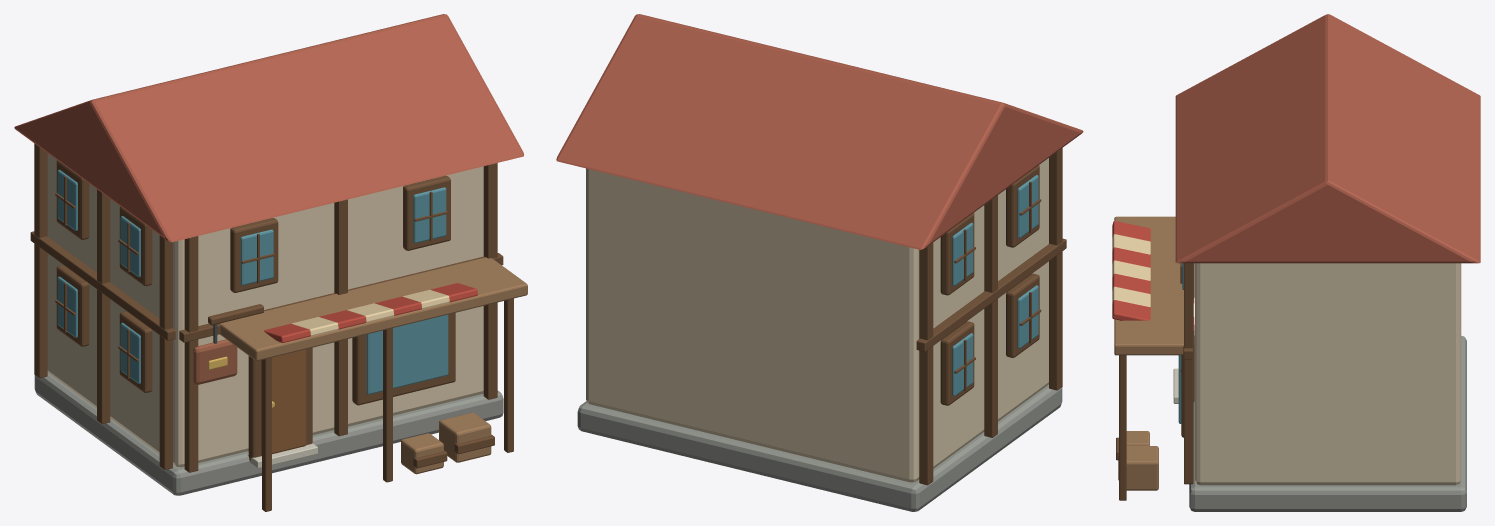
Rendered from temperate-shop-1.glb.
3 views of the same model, side by side, from view 1: azimuth 30°, elevation 25°; view 2: azimuth 150°, elevation 25°; view 3: azimuth 270°, elevation 25° (orthographic). The views are drawn at different scales.
Visible parts, largest first — view 1: Clay tiles, Ivory plaster, Dark beams, Aged oak, Blue glass, Foundation stone, Door oak, Market red cloth, Market cream cloth, Painted sign, Cut limestone; view 2: Ivory plaster, Clay tiles, Dark beams, Foundation stone, Blue glass; view 3: Clay tiles, Ivory plaster, Foundation stone, Aged oak, Dark beams, Market red cloth, Market cream cloth.
Part boxes in pixels (box(x1,y1,x2,y2)): Clay tiles: box(14, 14, 523, 242); Ivory plaster: box(47, 153, 483, 467); Dark beams: box(30, 143, 513, 511); Aged oak: box(219, 257, 527, 474); Blue glass: box(57, 169, 448, 394); Foundation stone: box(34, 372, 503, 495); Door oak: box(261, 349, 306, 455); Market red cloth: box(264, 283, 477, 342); Market cream cloth: box(291, 289, 449, 336); Painted sign: box(193, 339, 237, 384); Cut limestone: box(247, 443, 317, 468); Ivory plaster: box(586, 158, 1048, 482); Clay tiles: box(556, 14, 1083, 249); Dark beams: box(916, 148, 1066, 485); Foundation stone: box(577, 384, 1062, 511); Blue glass: box(952, 175, 1038, 396); Clay tiles: box(1175, 14, 1480, 263); Ivory plaster: box(1195, 263, 1461, 485); Foundation stone: box(1189, 336, 1466, 511); Aged oak: box(1114, 216, 1183, 490); Dark beams: box(1116, 263, 1194, 500); Market red cloth: box(1112, 221, 1194, 332); Market cream cloth: box(1112, 234, 1194, 316).
Bounding box in the file's own units: 4.14 × 3.86 × 3.8.
